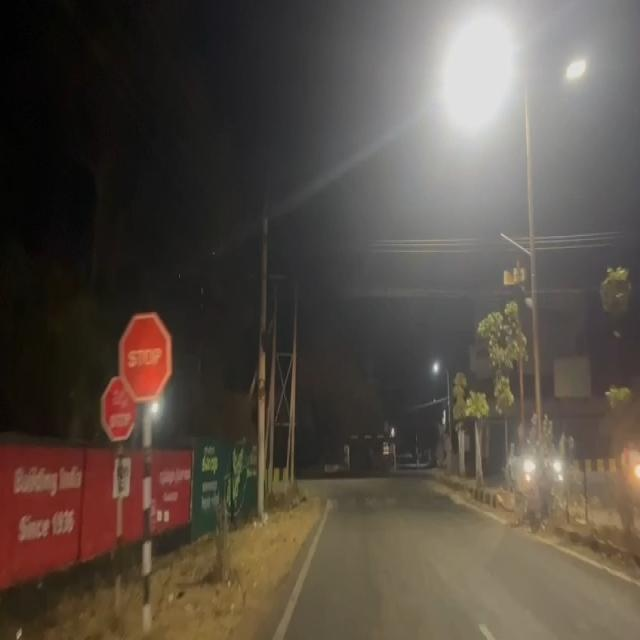bien_cam: (115, 308, 179, 408), (94, 366, 140, 443)
